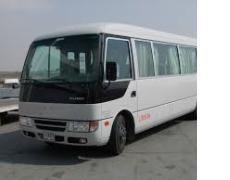bus: (16, 21, 196, 154)
